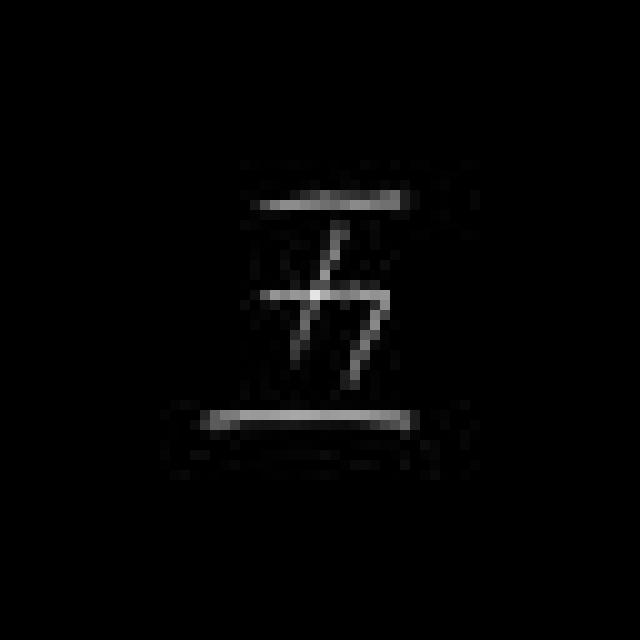5 -five-: (200, 176, 439, 449)
